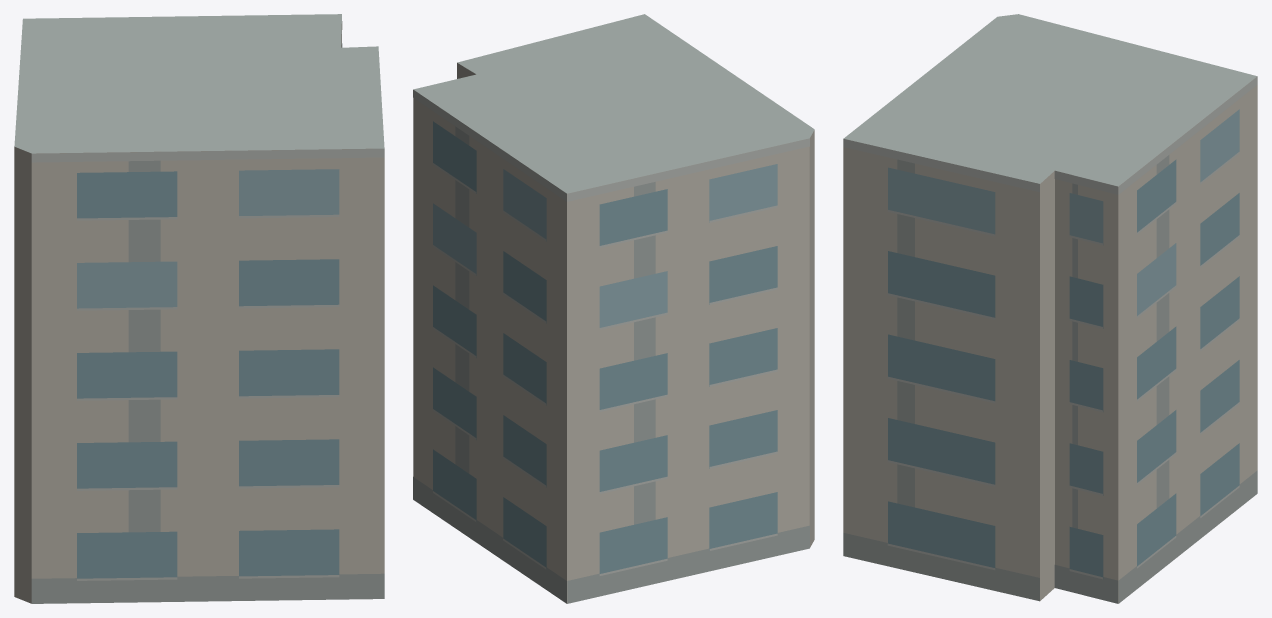
File: survey-upis-32730367.glb
3 renders of one model, left to right at view 1: azimuth 30°, elevation 25°; view 2: azimuth 150°, elevation 25°; view 3: azimuth 270°, elevation 25°, orthographic. The views are drawn at different scales.
Visible parts, largest first — view 1: survey-upis-32730367.tmp; view 2: survey-upis-32730367.tmp; view 3: survey-upis-32730367.tmp.
Boxes of the visible parts, x1,y1,x2,y2 form: survey-upis-32730367.tmp: (14, 14, 384, 603); survey-upis-32730367.tmp: (413, 14, 814, 603); survey-upis-32730367.tmp: (843, 14, 1257, 603).
Size of the model in its own units: 10.78 by 12.15 by 10.94.
